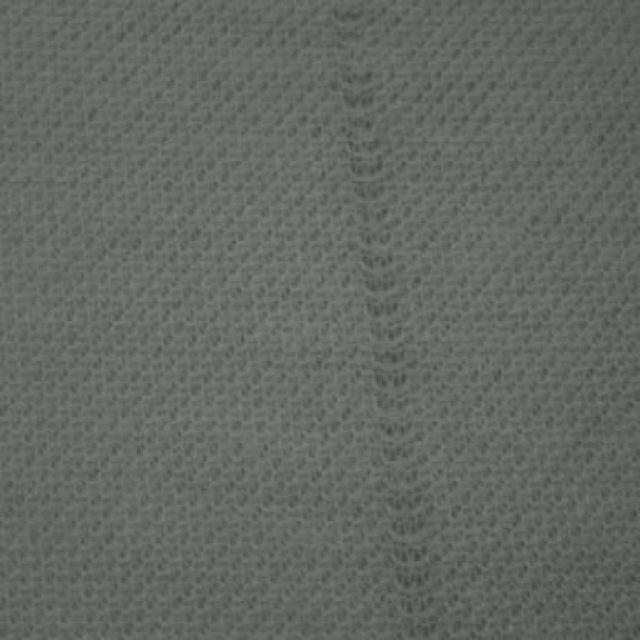Line: (329, 2, 435, 639)
